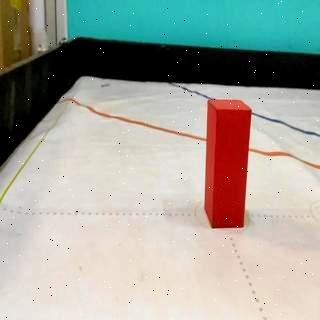redbox: (204, 98, 252, 228)
